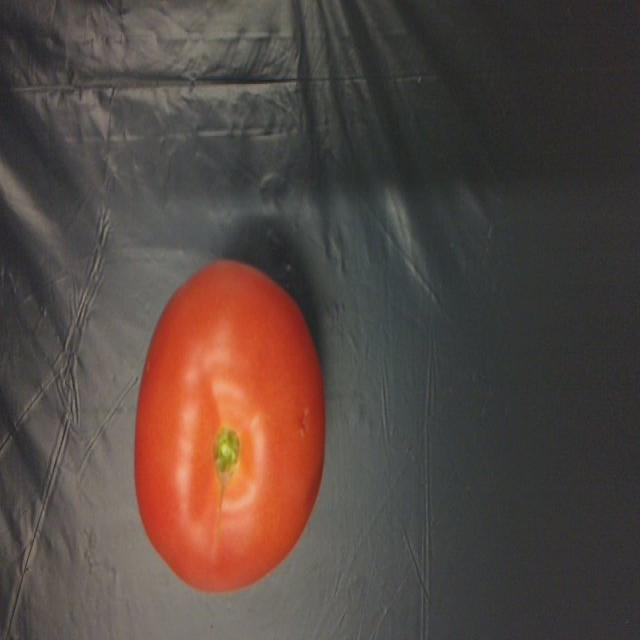kirmizi: (124, 234, 327, 598)
